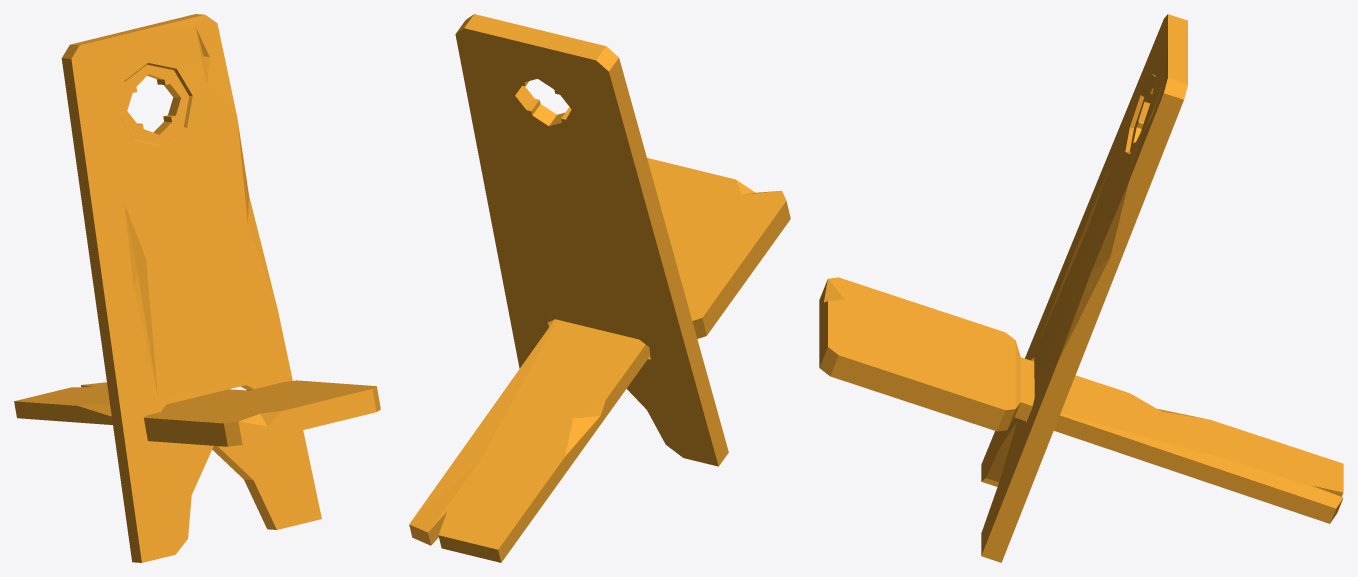
File: SM_Chair_Folding_C_Fantasy.fbx
3 renders of one model, left to right at view 1: azimuth 30°, elevation 25°; view 2: azimuth 150°, elevation 25°; view 3: azimuth 270°, elevation 25°, orthographic. The views are drawn at different scales.
Visible parts, largest first — view 1: chair-folding-c-fantasy; view 2: chair-folding-c-fantasy; view 3: chair-folding-c-fantasy.
Boxes of the visible parts, bbox=[...] form: chair-folding-c-fantasy: bbox=[14, 14, 380, 562]; chair-folding-c-fantasy: bbox=[409, 14, 790, 562]; chair-folding-c-fantasy: bbox=[819, 14, 1343, 562].
Bounding box in the file's own units: 0.5 × 1.2 × 1.21.
